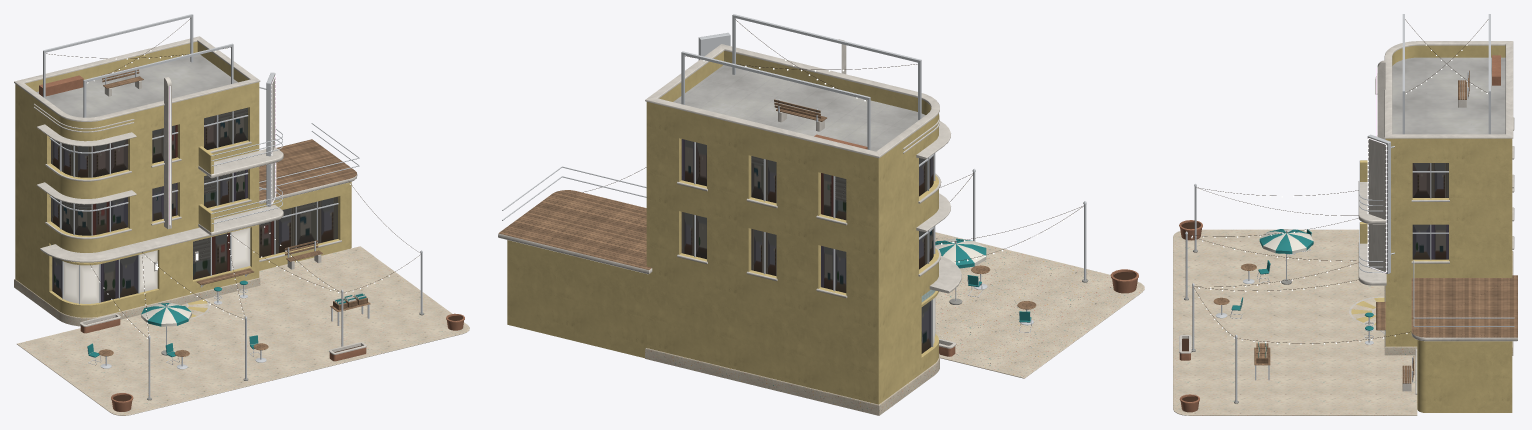
Rendered from plot_record_shop.gltf.
The picture shows the model from 3 angles, left to right: view 1: azimuth 30°, elevation 25°; view 2: azimuth 150°, elevation 25°; view 3: azimuth 270°, elevation 25°; orthographic projection. The views are drawn at different scales.
Parts seen in each view (by area): view 1: plot_record_shop_mesh, sign_face; view 2: plot_record_shop_mesh; view 3: plot_record_shop_mesh, sign_face.
Boxes of the visible parts, x1,y1,x2,y2 form: plot_record_shop_mesh: (14,14,469,415); sign_face: (271,74,275,205); plot_record_shop_mesh: (498,14,1144,415); plot_record_shop_mesh: (1173,14,1517,415); sign_face: (1368,137,1387,272).
Bounding box in the file's own units: 19.4 × 12.45 × 15.25.
Materials: 14 (10 with a texture image).
